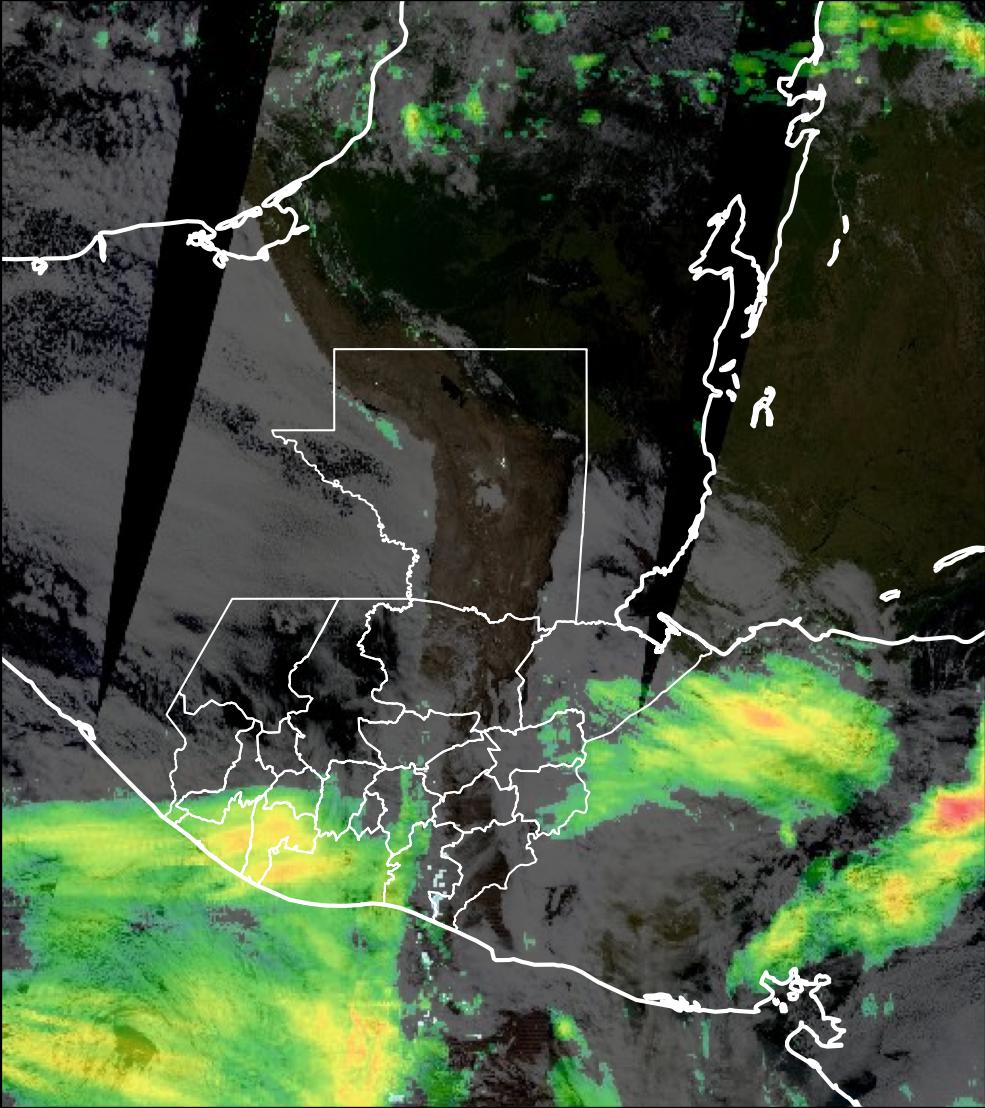precipitacion: (726, 692, 803, 763), (924, 773, 985, 840)
